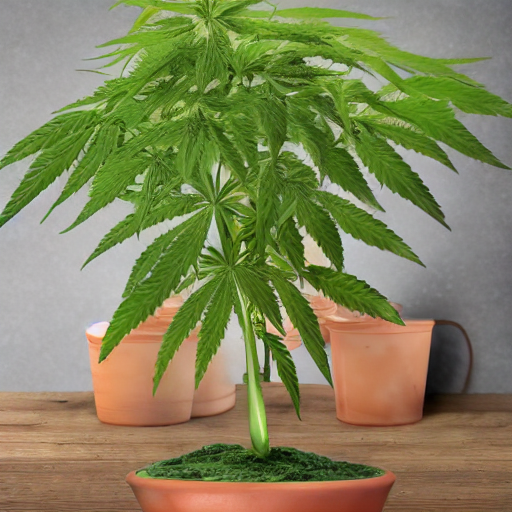Marijuana Joint: (1, 1, 512, 491)
